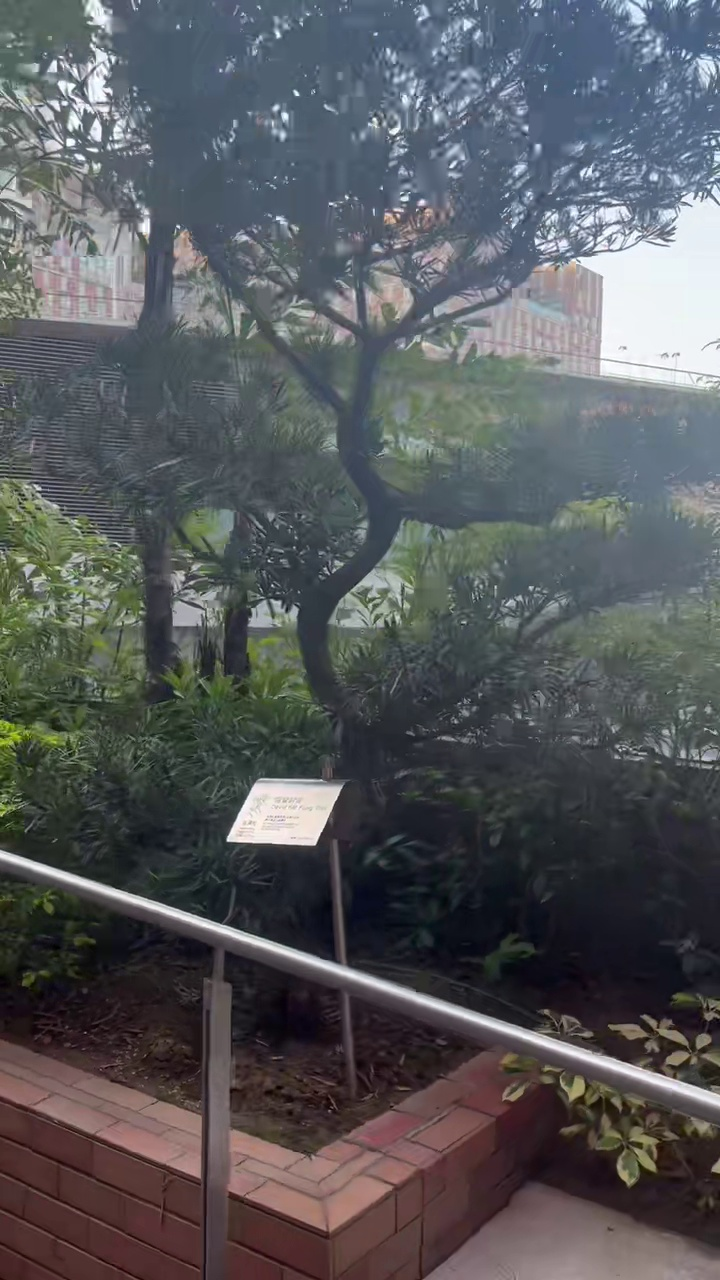Podocarpus macrophyllus: (117, 0, 719, 725)
